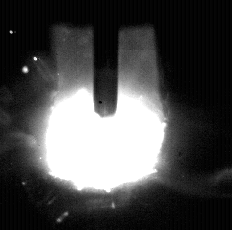arame: (95, 0, 119, 116)
poca: (45, 0, 166, 230)
